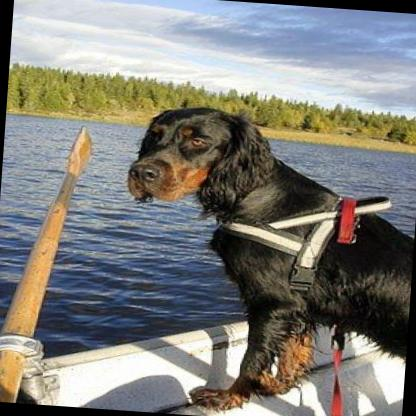Gordon_setter: (107, 100, 416, 416)
